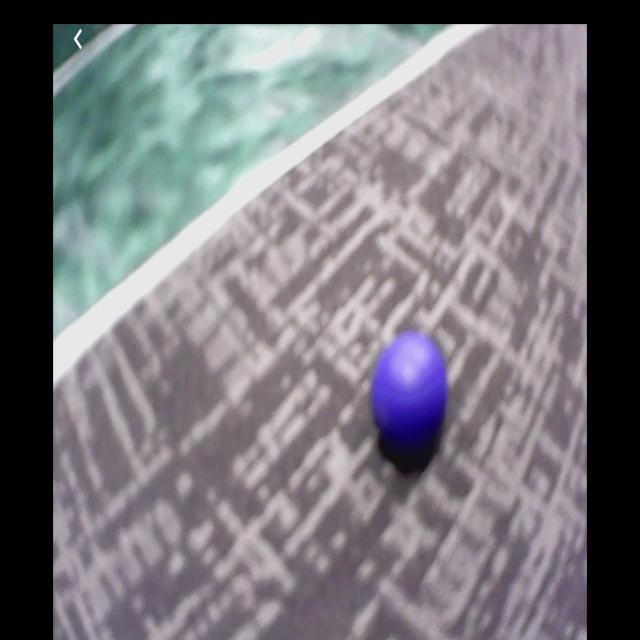ball: (373, 332, 448, 455)
